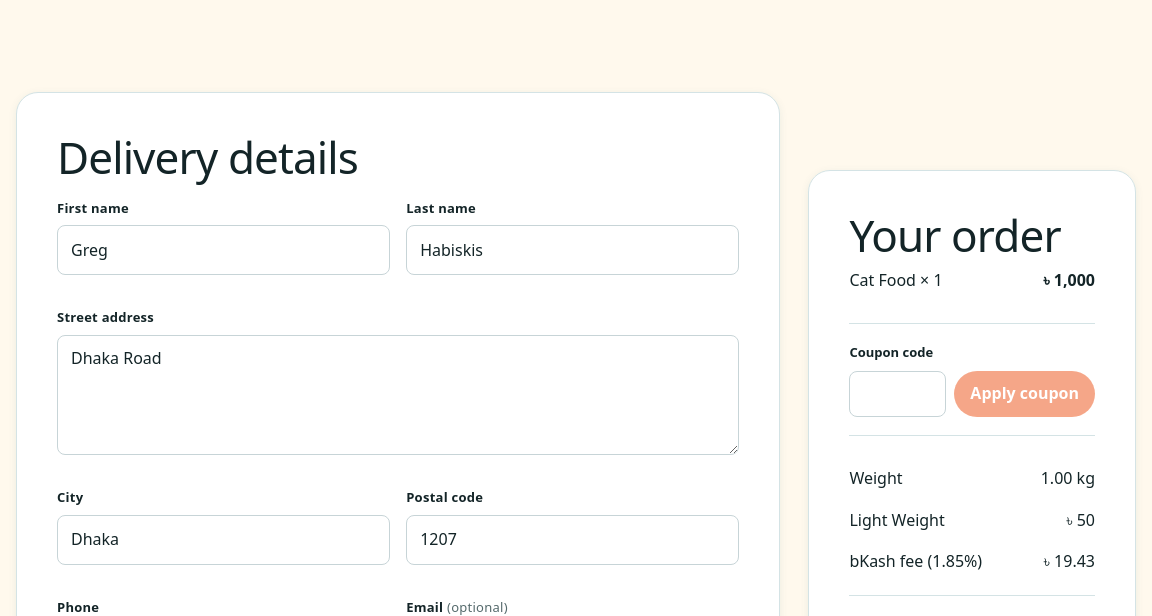
CheckoutForm coupons › shows validation errors and never trusts a client discount on order submission
Type "OLD" into the field labelled "Coupon code".
click(898, 394); type("OLD")  # box x1=849 y1=371 x2=946 y2=417
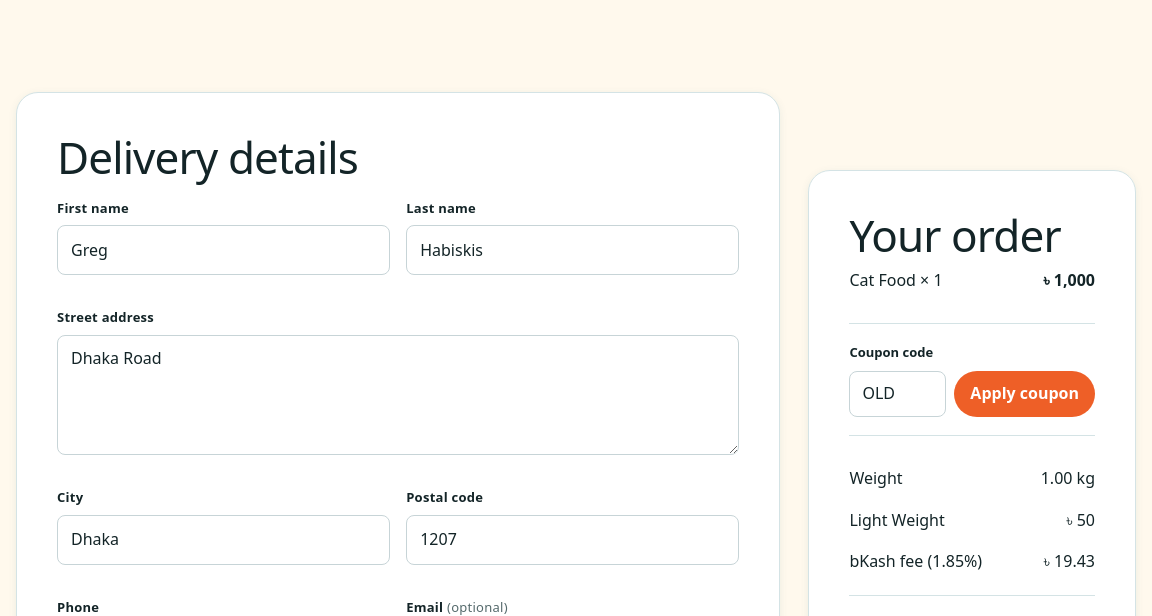
Click the button "Apply coupon".
click(1025, 394)  # box x1=954 y1=371 x2=1095 y2=417
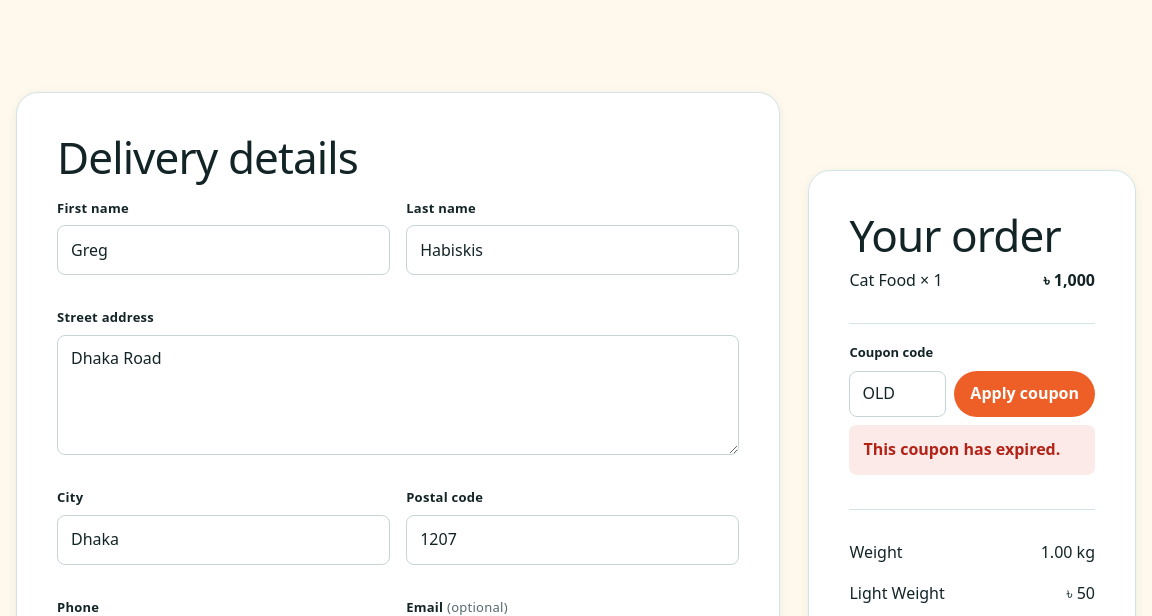
Now the text "This coupon has expired." is shown, box x1=849 y1=425 x2=1095 y2=474
